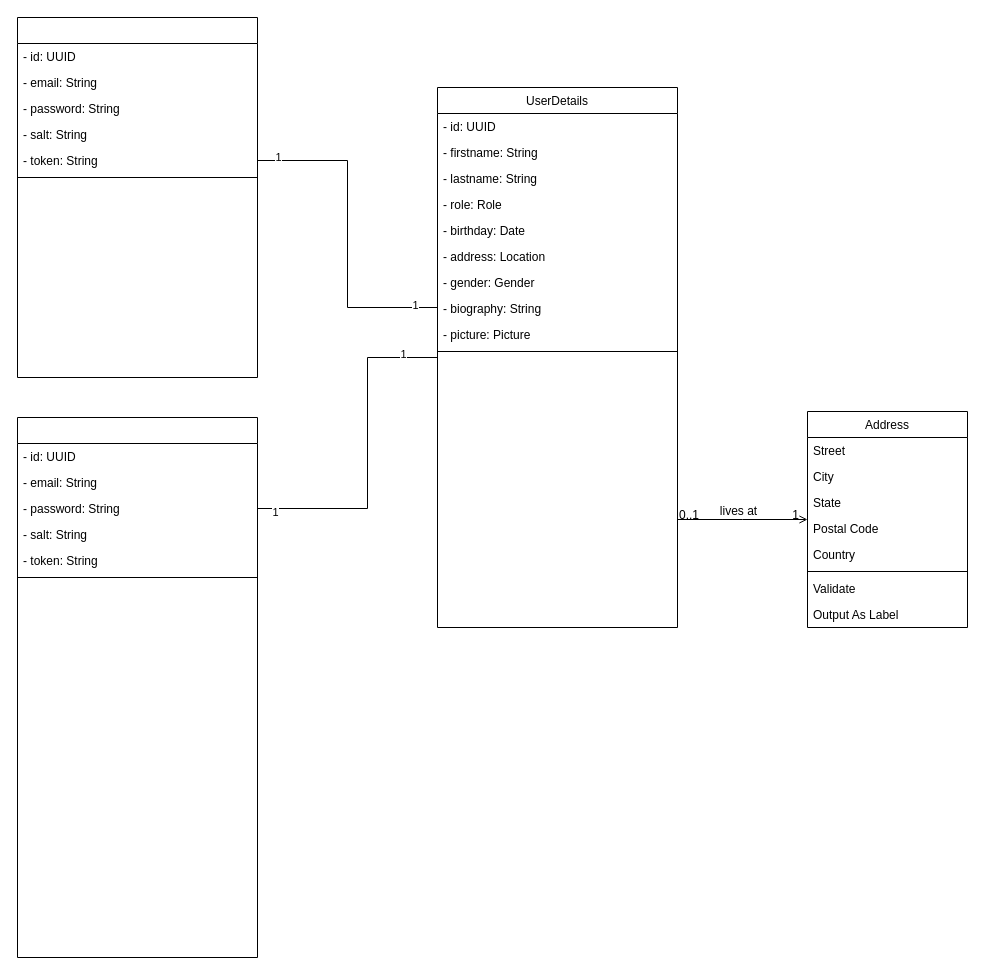
The diagram is 985 pixels wide and 975 high, and some of its shapes have lost their labels. The shapes that lost their labels are listed below. From the top down, each one's box as (x1, y1, x2, y2) in pixels, then its label:
(16, 16, 258, 378): User
(16, 416, 258, 958): AuthenticationData
